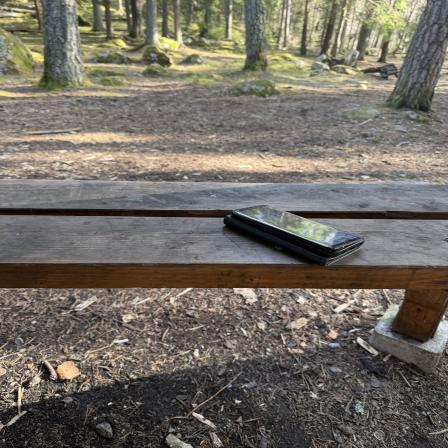phone: (225, 202, 365, 270)
